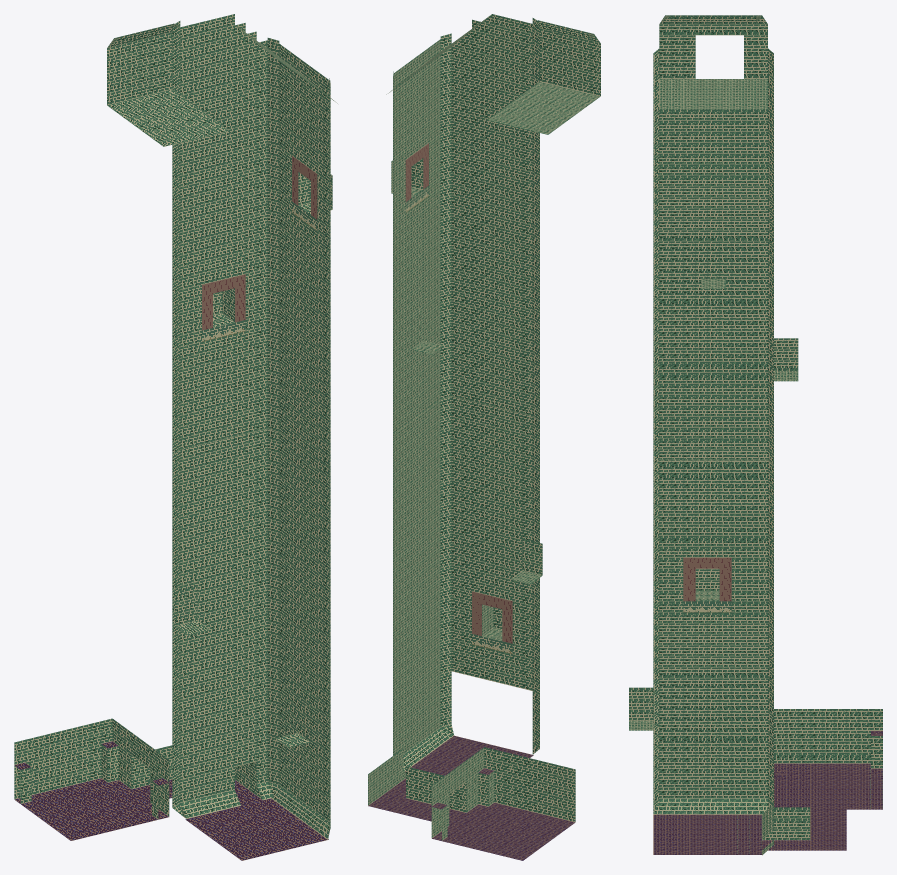
File: Drop.gltf
3 renders of one model, left to right at view 1: azimuth 30°, elevation 25°; view 2: azimuth 150°, elevation 25°; view 3: azimuth 270°, elevation 25°, orthographic. The views are drawn at different scales.
Bounding box in the file's own units: 20.5 × 70.87 × 21.
2 materials, 2 textured.
